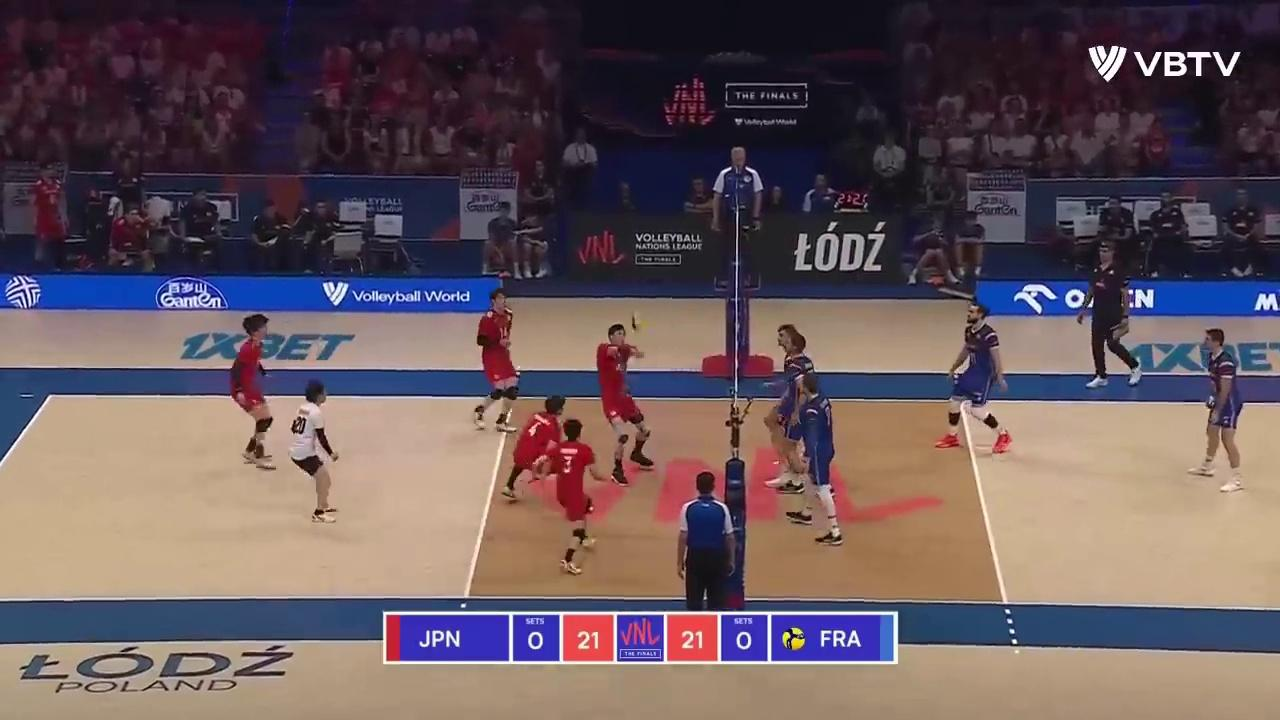ball: (629, 311, 647, 333)
